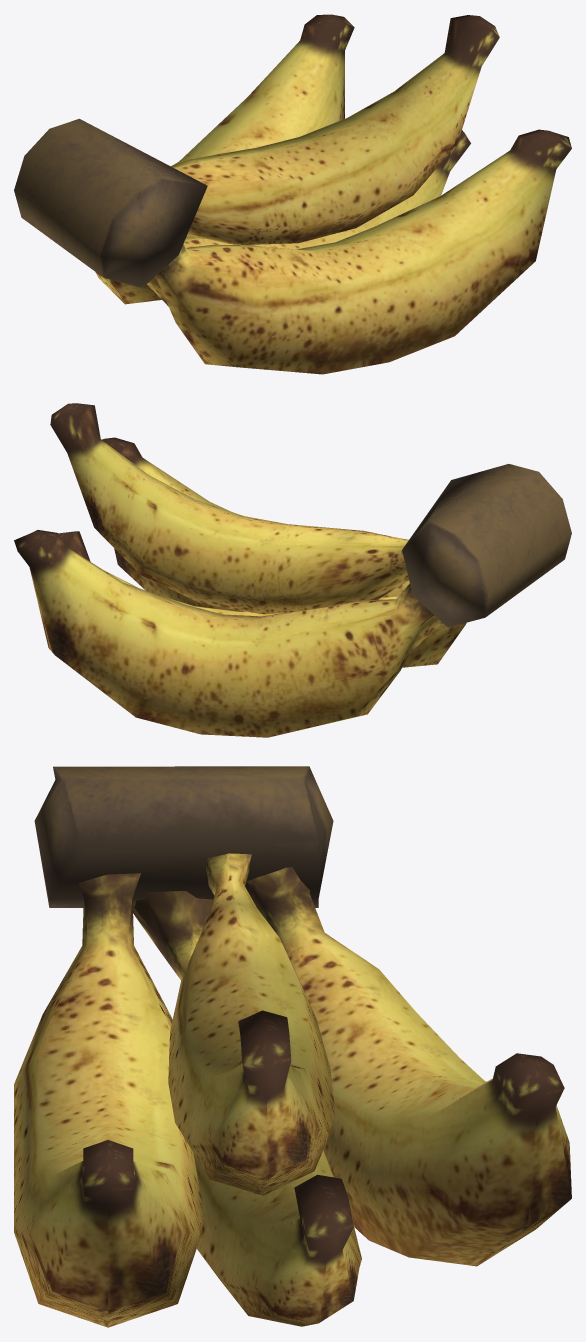
The model's file is banana.fbx.
3 views of the same model, one above another, from view 1: azimuth 30°, elevation 25°; view 2: azimuth 150°, elevation 25°; view 3: azimuth 270°, elevation 25° (orthographic). The views are drawn at different scales.
Parts seen in each view (by area): view 1: pCube1; view 2: pCube1; view 3: pCube1.
Part boxes in pixels (x1=…): pCube1: x1=14, y1=14, x2=571, y2=374; pCube1: x1=14, y1=403, x2=571, y2=737; pCube1: x1=14, y1=766, x2=571, y2=1327.
Size of the model in its own units: 8.25 by 4.31 by 5.62.
Materials: 1 (1 with a texture image).
